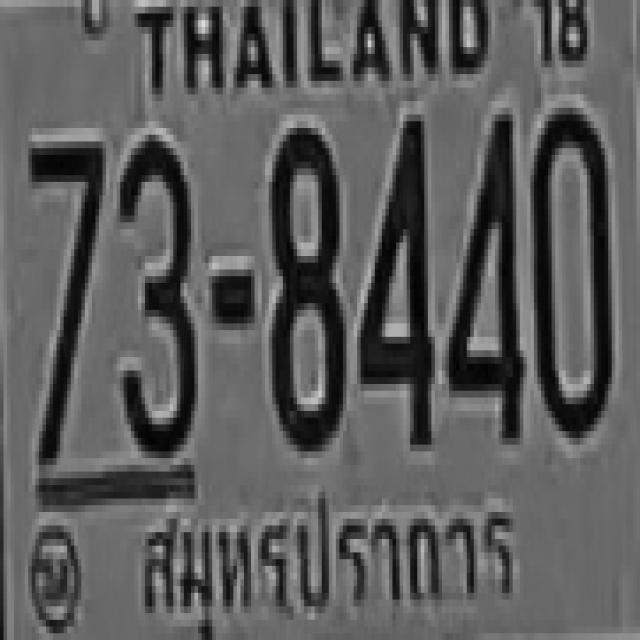0: (530, 101, 608, 431)
3: (116, 131, 194, 455)
4: (357, 108, 432, 444), (445, 108, 520, 438)
7: (24, 135, 102, 458)
8: (269, 121, 343, 445)
SamutPrakan: (131, 484, 523, 632)
